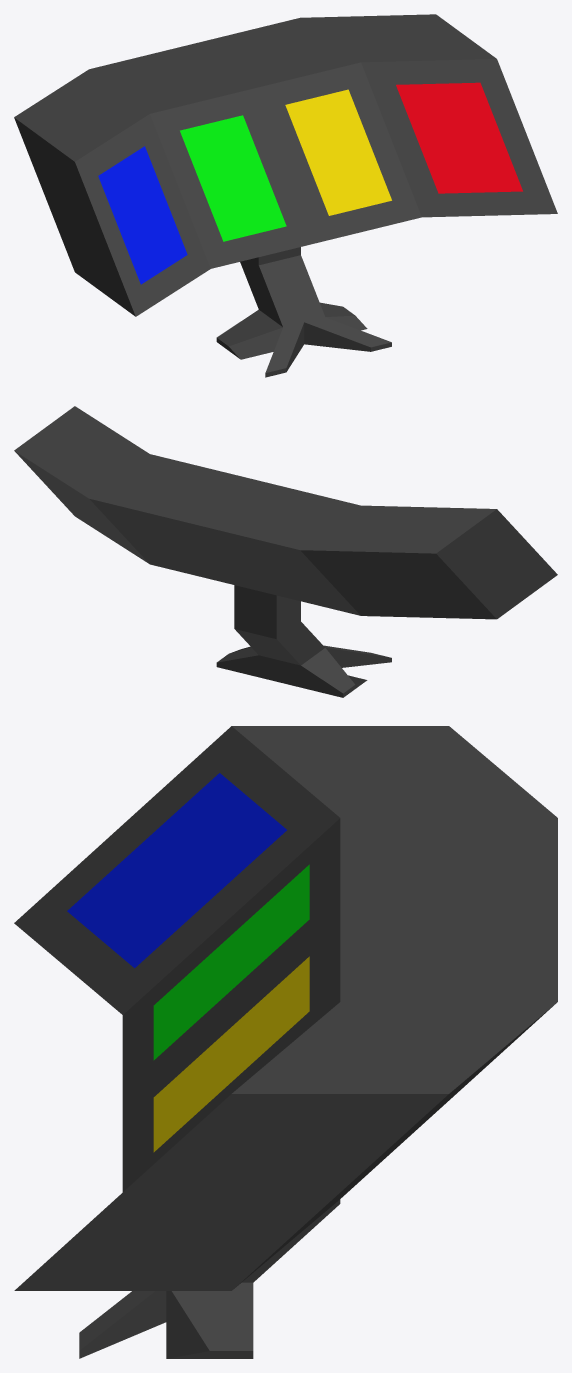
File: méchantExport.fbx
The picture shows the model from 3 angles, top to bottom: view 1: azimuth 30°, elevation 25°; view 2: azimuth 150°, elevation 25°; view 3: azimuth 270°, elevation 25°; orthographic projection. The views are drawn at different scales.
Visible parts, largest first — view 1: Cube.001; view 2: Cube.001; view 3: Cube.001.
Boxes of the visible parts, box(x1,y1,x2,y2) form: Cube.001: box(14, 14, 557, 377); Cube.001: box(14, 406, 557, 697); Cube.001: box(14, 726, 557, 1358).
Bounding box in the file's own units: 200 × 99.85 × 125.
